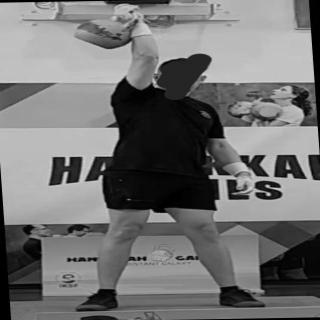kettlebell: (69, 11, 151, 54)
